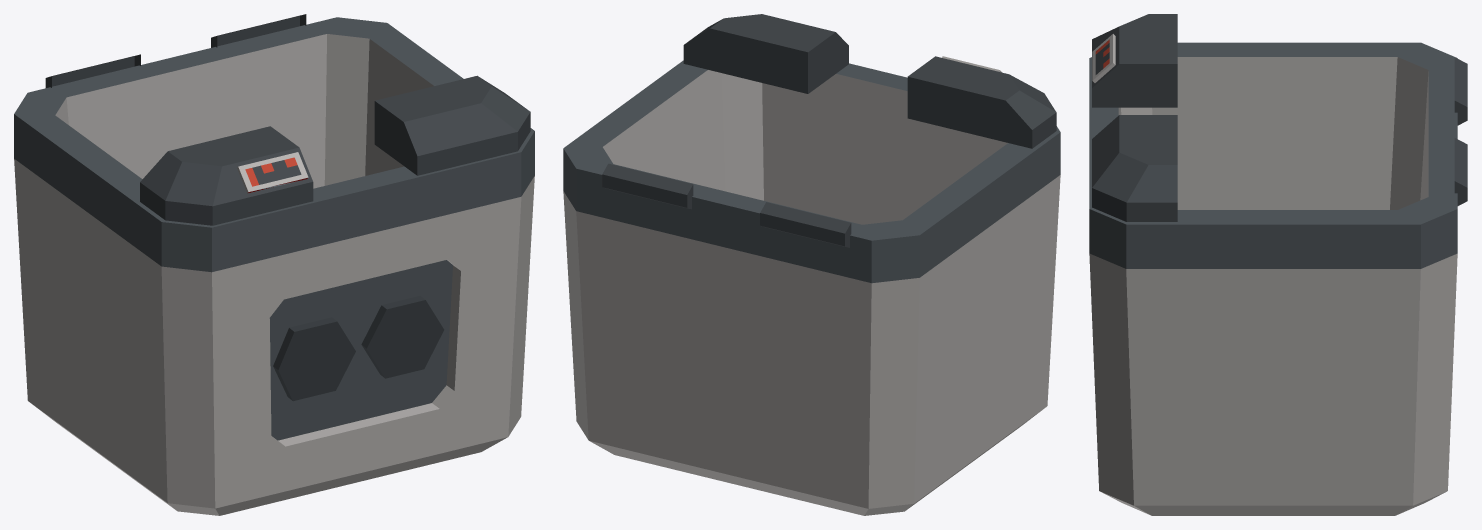
File: SM_Prop_ChillyBin_01.fbx
3 renders of one model, left to right at view 1: azimuth 30°, elevation 25°; view 2: azimuth 150°, elevation 25°; view 3: azimuth 270°, elevation 25°, orthographic. The views are drawn at different scales.
Parts seen in each view (by area): view 1: SM_Prop_ChillyBin_01; view 2: SM_Prop_ChillyBin_01; view 3: SM_Prop_ChillyBin_01.
Part boxes in pixels (x1,y1,x2,y2): SM_Prop_ChillyBin_01: (14, 14, 534, 515); SM_Prop_ChillyBin_01: (563, 14, 1060, 515); SM_Prop_ChillyBin_01: (1089, 14, 1467, 515).
Size of the model in its own units: 55.85 by 50.04 by 49.06.
